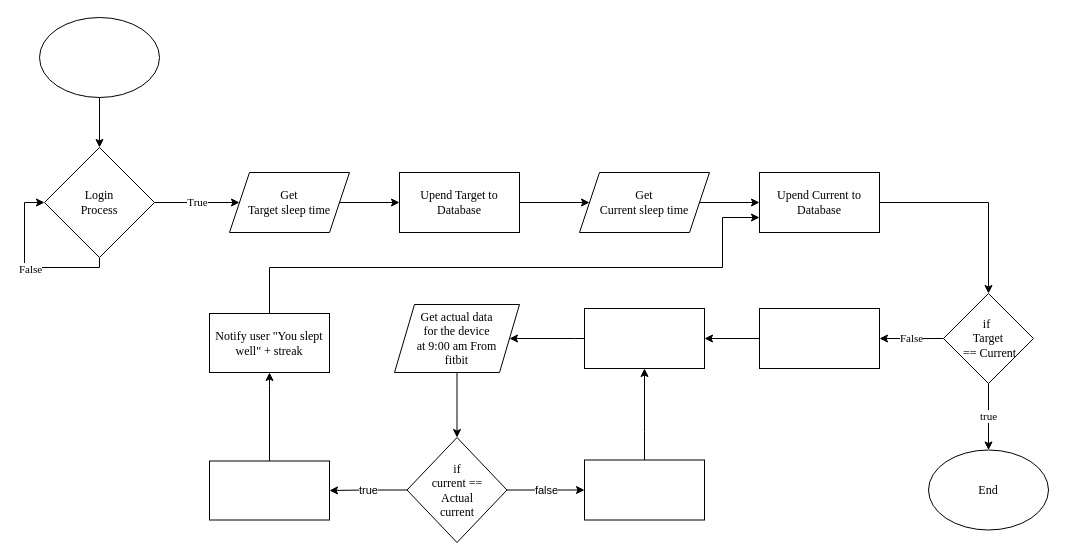
The diagram is 1066 pixels wide and 560 high, and some of its shapes have lost their labels. Here are the shapes that lost their labels. From the top down, the centre of each, then its label:
(99,57): Start
(644,338): Notify user 30 mins before bedtime
(819,338): Current -= 15 min
(269,490): streak+= 1
(644,489): Streak == 0
